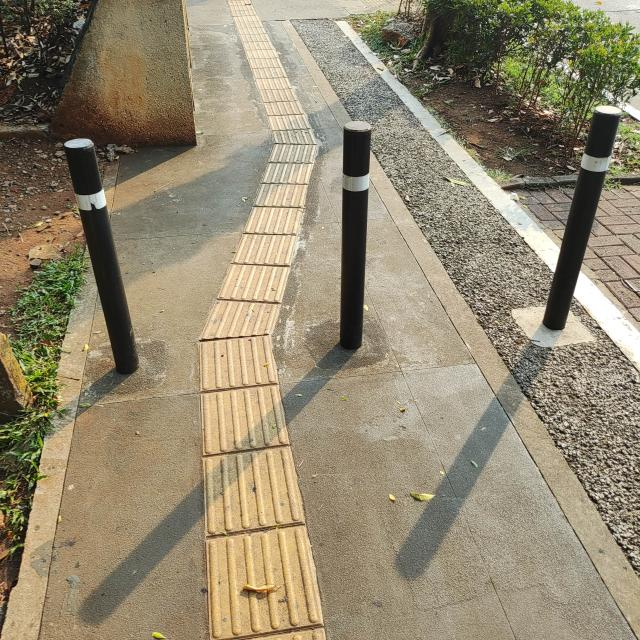lurus: (188, 354, 332, 640), (223, 8, 338, 204)
